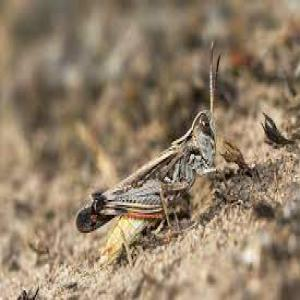locust: (80, 73, 229, 254)
